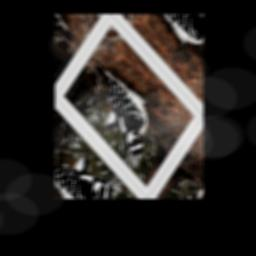Woodpecker: (73, 44, 168, 161)
